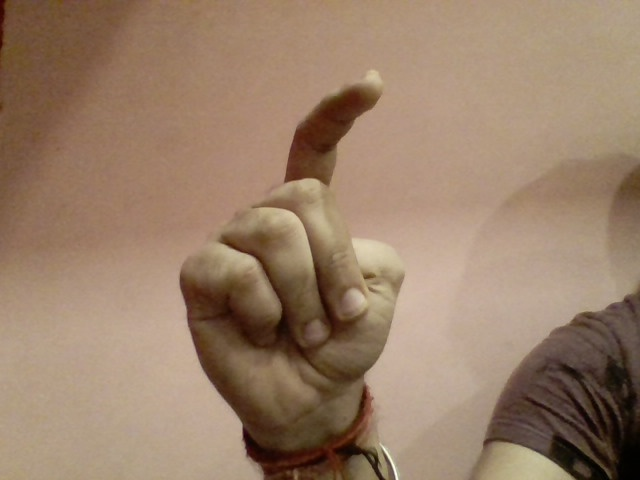x: (156, 64, 417, 416)
